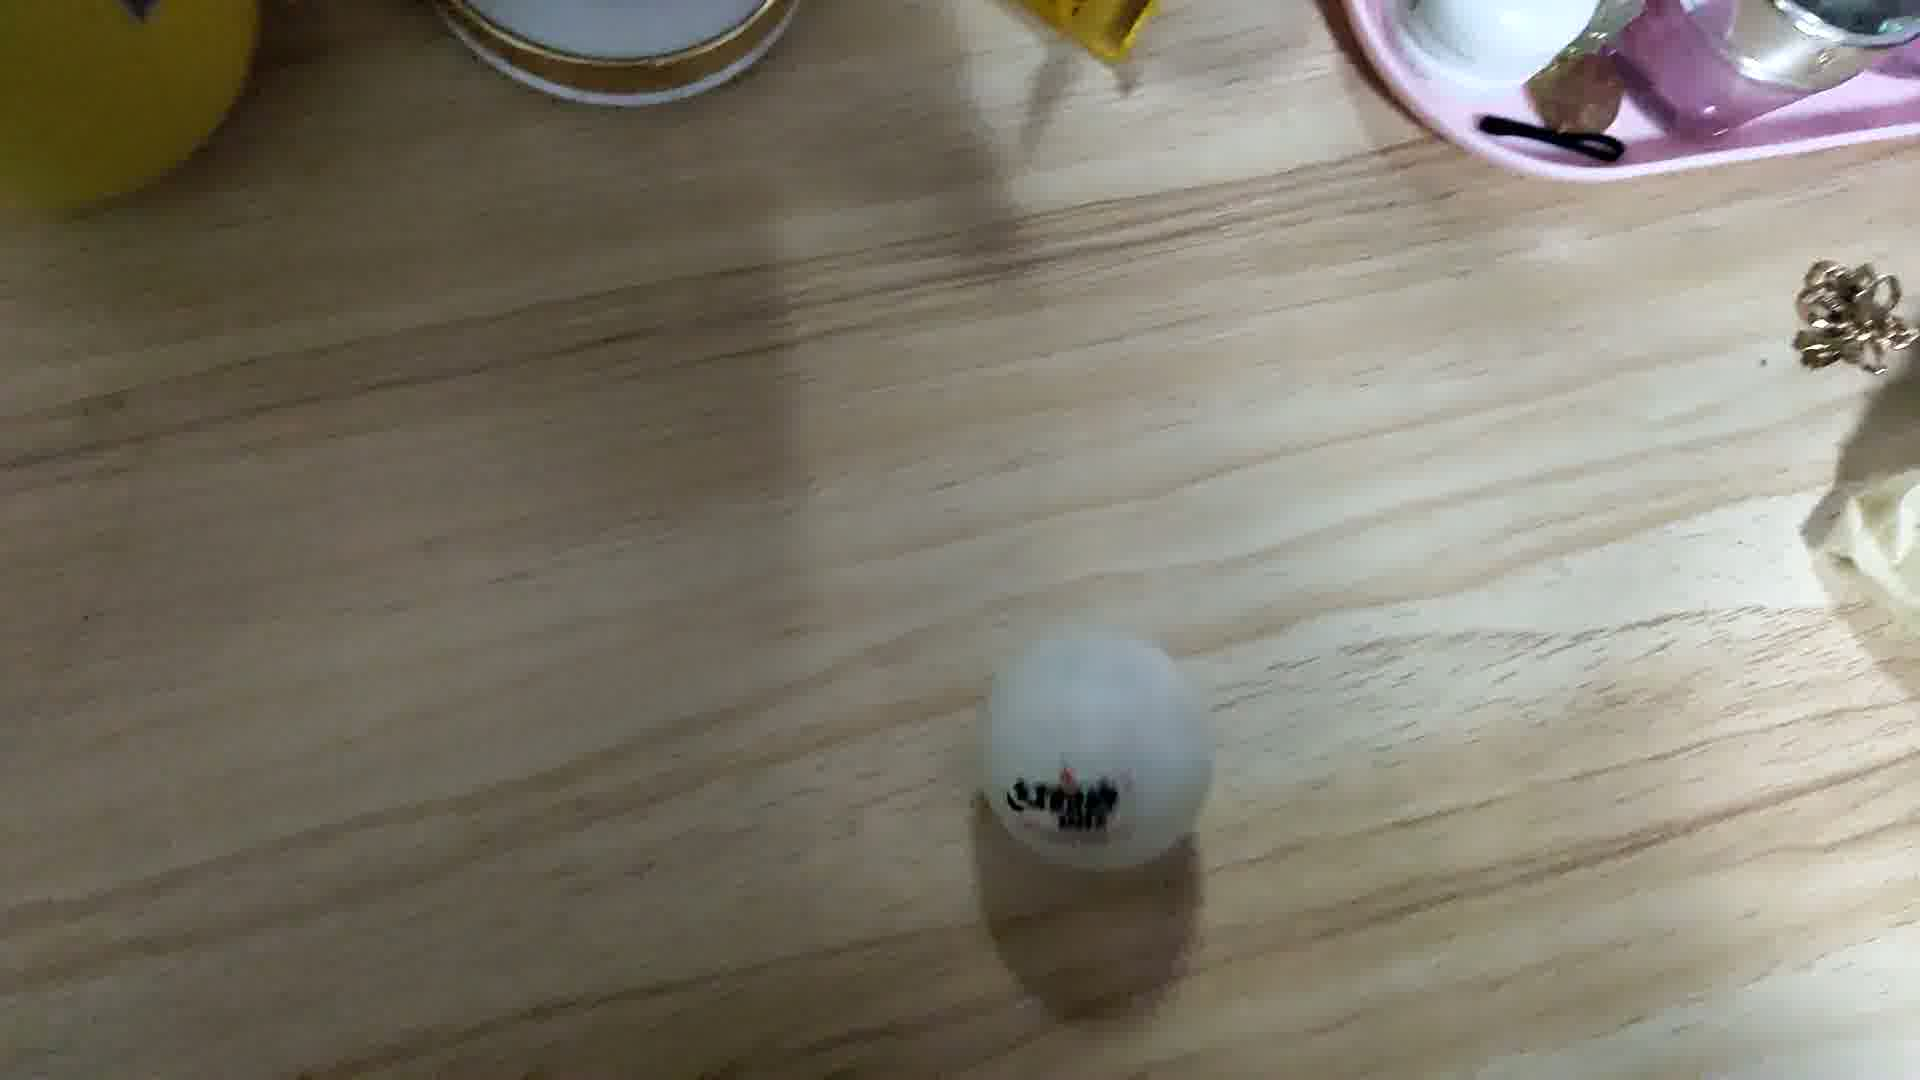Ball: (985, 632, 1222, 866)
